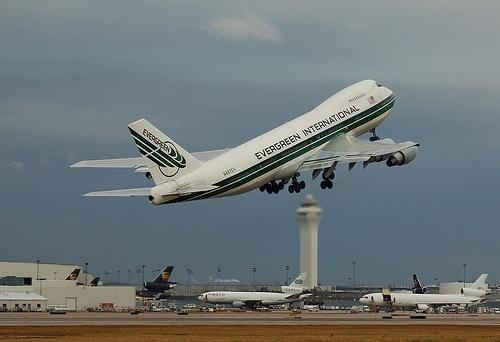aeroplane: (68, 76, 426, 209), (357, 272, 497, 317), (196, 272, 316, 314)
